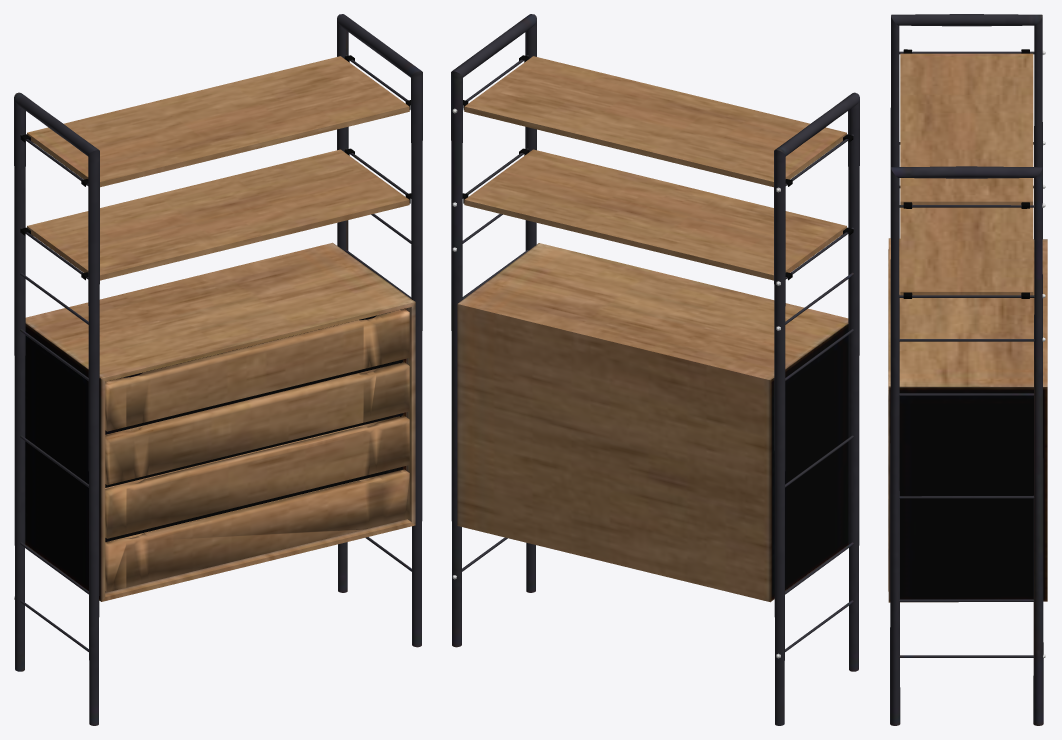
Rendered from drawer_cabinet.glb.
The picture shows the model from 3 angles, left to right: view 1: azimuth 30°, elevation 25°; view 2: azimuth 150°, elevation 25°; view 3: azimuth 270°, elevation 25°; orthographic projection. The views are drawn at different scales.
Bounding box in the file's own units: 1.14 × 1.88 × 0.4881.
Materials: 1 (1 with a texture image).
